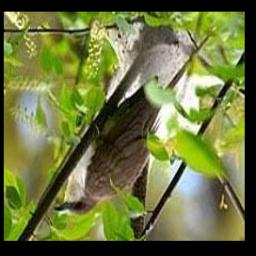Cuckoo: (54, 38, 208, 216)
